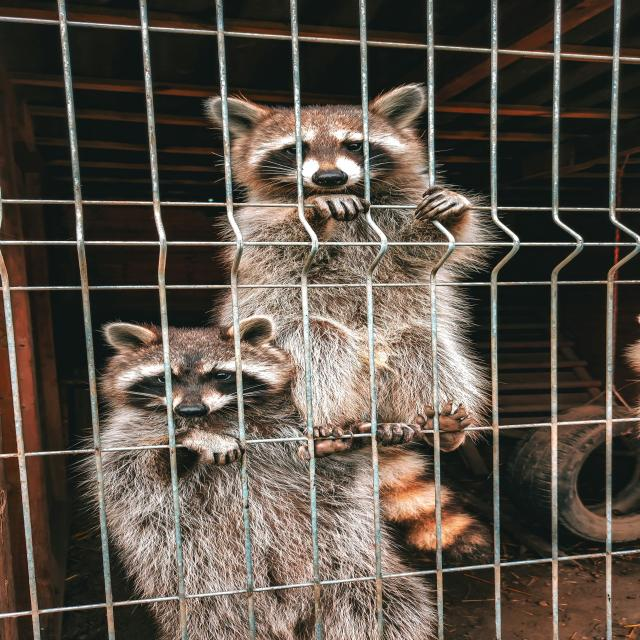Raccoon: (99, 320, 407, 638), (218, 98, 490, 432)
